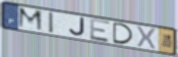D: (112, 21, 135, 46)
E: (90, 18, 112, 44)
I: (48, 11, 56, 35)
J: (68, 17, 87, 38)
M: (17, 6, 45, 33)
X: (136, 25, 157, 51)
